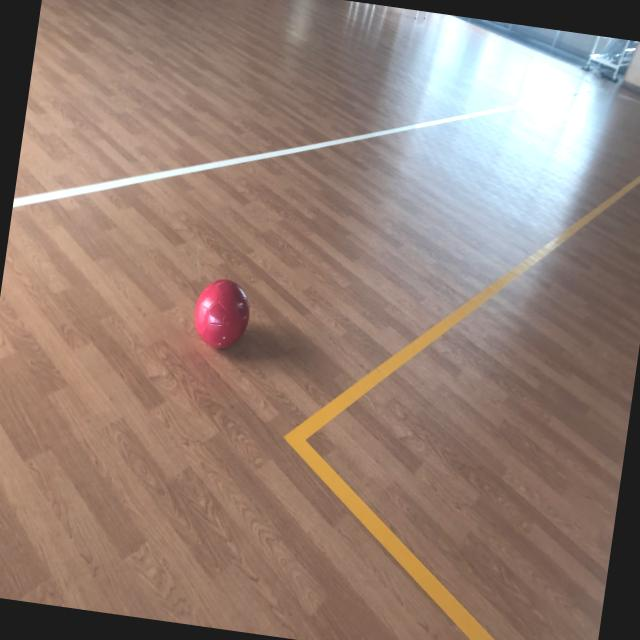red_ball: (190, 276, 254, 354)
